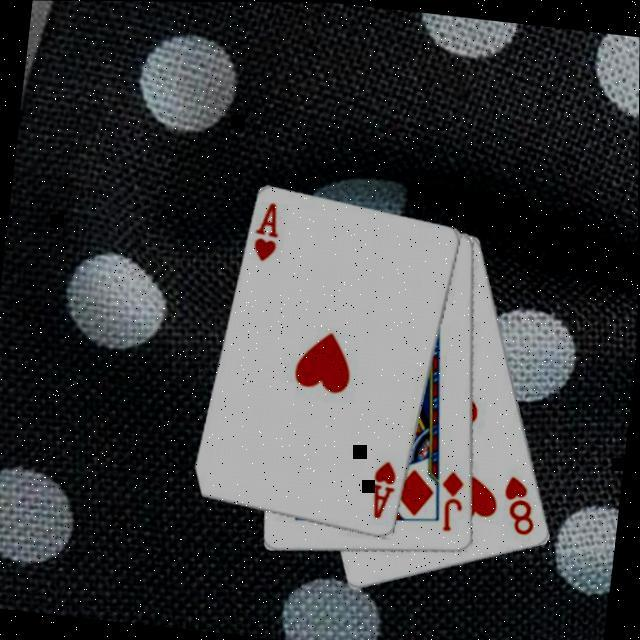8H: (497, 470, 541, 538)
AH: (364, 454, 401, 522), (248, 196, 285, 264)
JD: (434, 464, 468, 534)
